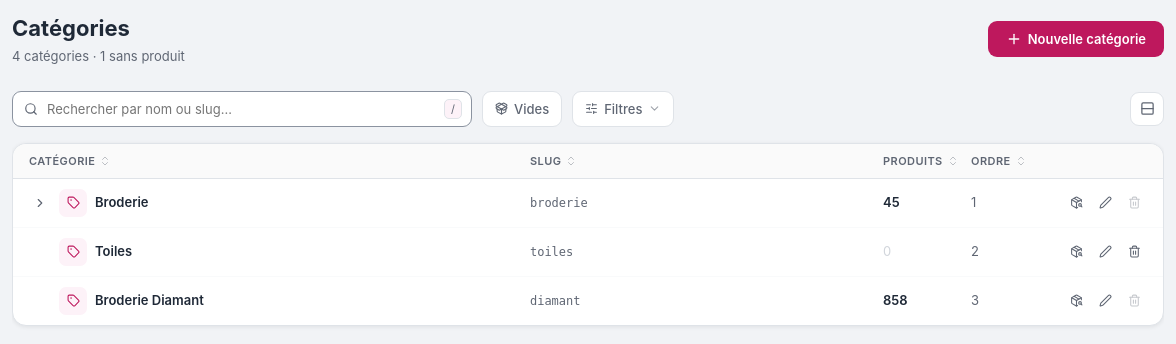
Test: Categories — filtres › le raccourci « Vides » ne garde que les rayons sans produit
Expected: the text "Broderie" is shown, [95, 193, 148, 212]
Click the button "Vides" at (522, 108), box [482, 90, 562, 126]
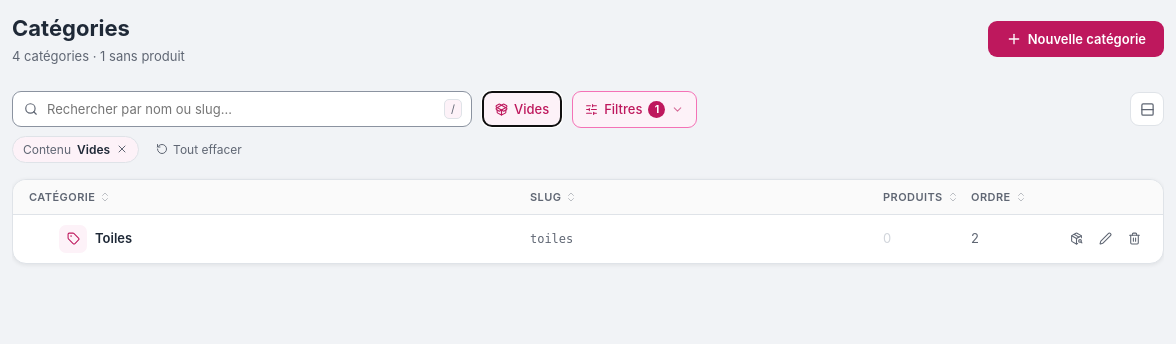
Expected: the text "Toiles" is shown, [95, 229, 132, 248]
Expected: the text "Broderie Diamant" is gone
